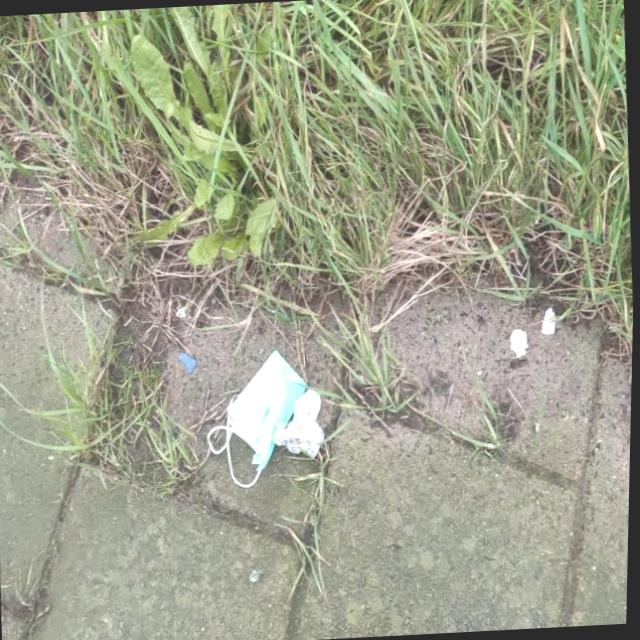Mask: (202, 346, 315, 494)
Paper: (268, 386, 330, 462)
